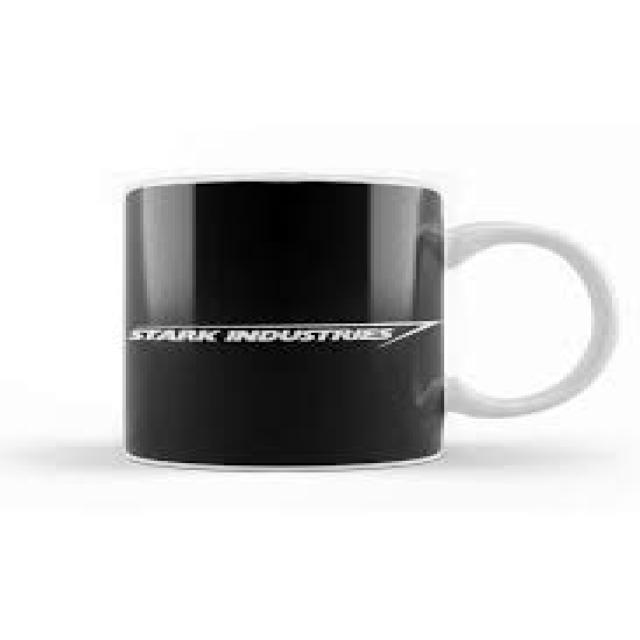taza: (121, 173, 640, 472)
